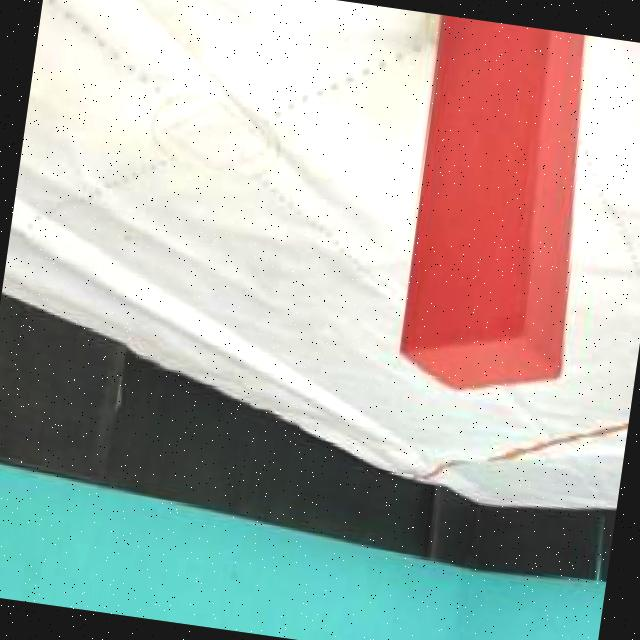redbox: (384, 13, 610, 410)
